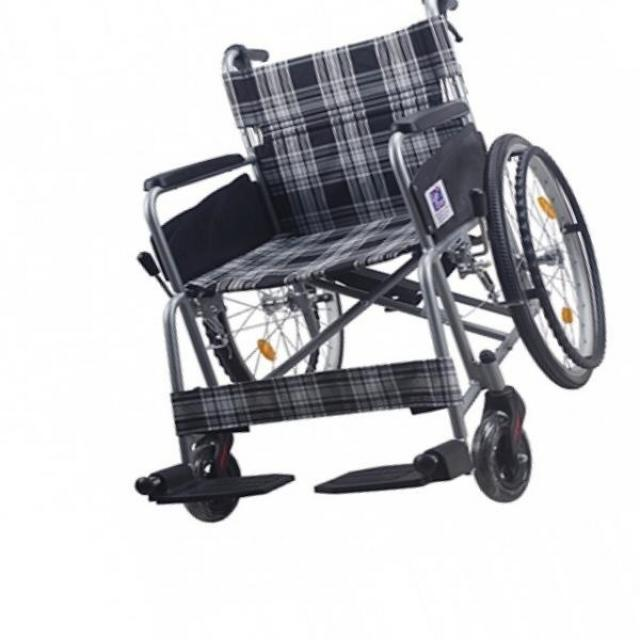wheelchair: (120, 2, 618, 543)
